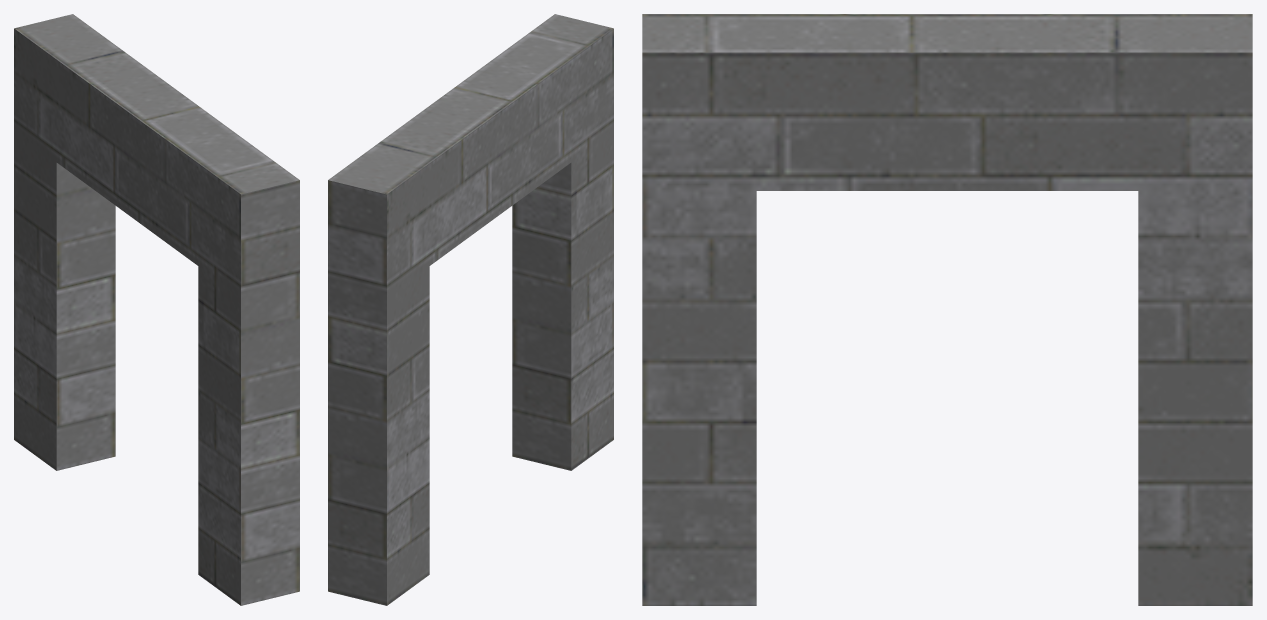
Rendered from mDFrameBricksWhite01.obj.
3 renders of one model, left to right at view 1: azimuth 30°, elevation 25°; view 2: azimuth 150°, elevation 25°; view 3: azimuth 270°, elevation 25°, orthographic. The views are drawn at different scales.
Visible parts, largest first — view 1: WallDoorBricksWhite01; view 2: WallDoorBricksWhite01; view 3: WallDoorBricksWhite01.
Boxes of the visible parts, left/top/right/bottom form: WallDoorBricksWhite01: left=14, top=14, right=299, bottom=605; WallDoorBricksWhite01: left=328, top=14, right=613, bottom=605; WallDoorBricksWhite01: left=642, top=14, right=1252, bottom=605.
Bounding box in the file's own units: 0.6 × 4 × 4.
